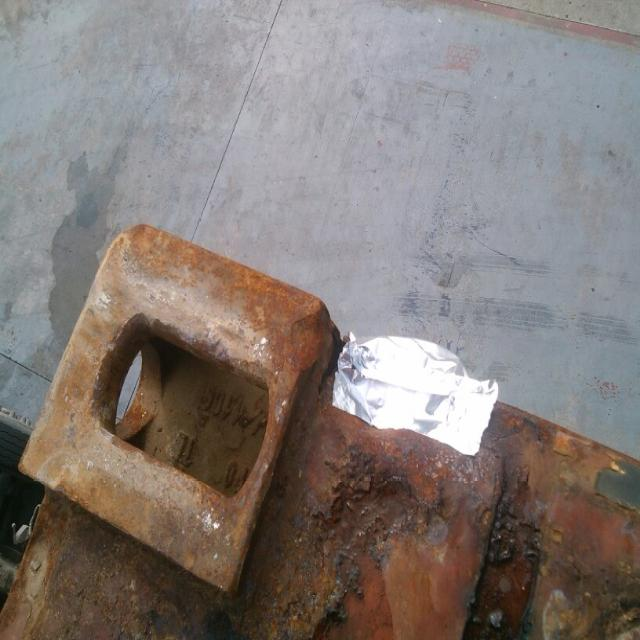rust: (266, 447, 453, 640), (22, 528, 215, 640), (239, 261, 338, 382), (567, 554, 640, 640)
